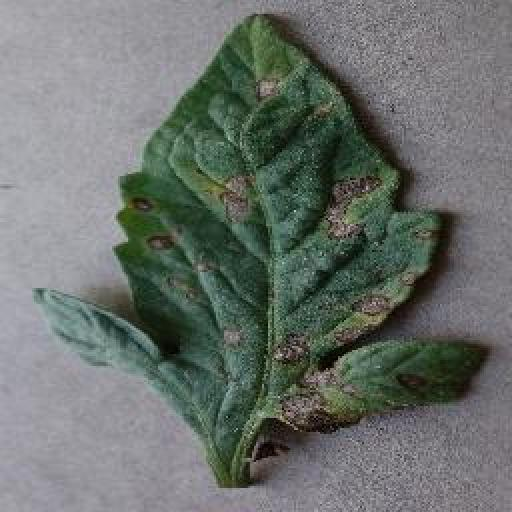Early Blight: (39, 10, 484, 490)
